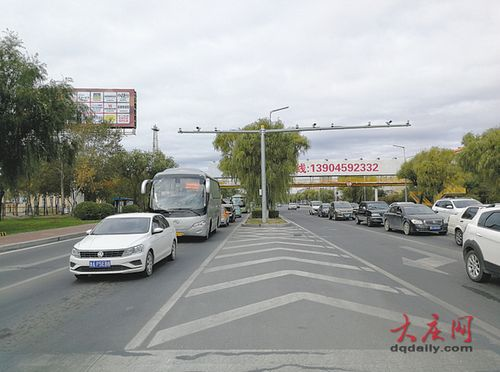bus: (149, 168, 226, 242)
camera: (385, 120, 392, 127), (196, 126, 201, 131), (313, 122, 317, 128)
car: (68, 212, 177, 279), (457, 207, 499, 283), (383, 203, 448, 236), (431, 198, 486, 229), (355, 201, 390, 226), (329, 201, 357, 220), (228, 197, 244, 215), (310, 202, 323, 216), (288, 203, 301, 209)
